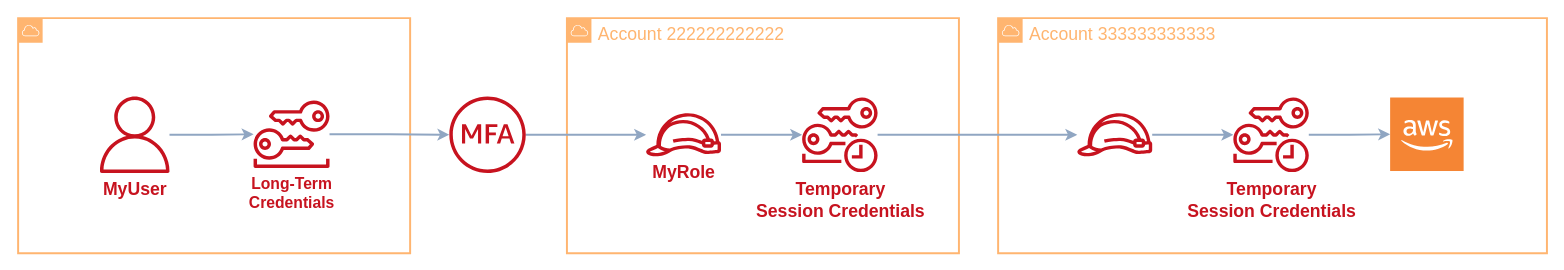
This 1564x270 diagram has some shape labels left out. The box of each missing label's shape, as (x1, y1, x2, y2) in pixels:
Account 111111111111: (17, 17, 411, 254)
FinalRole: (1076, 113, 1152, 156)
Resources: (1389, 97, 1464, 171)
